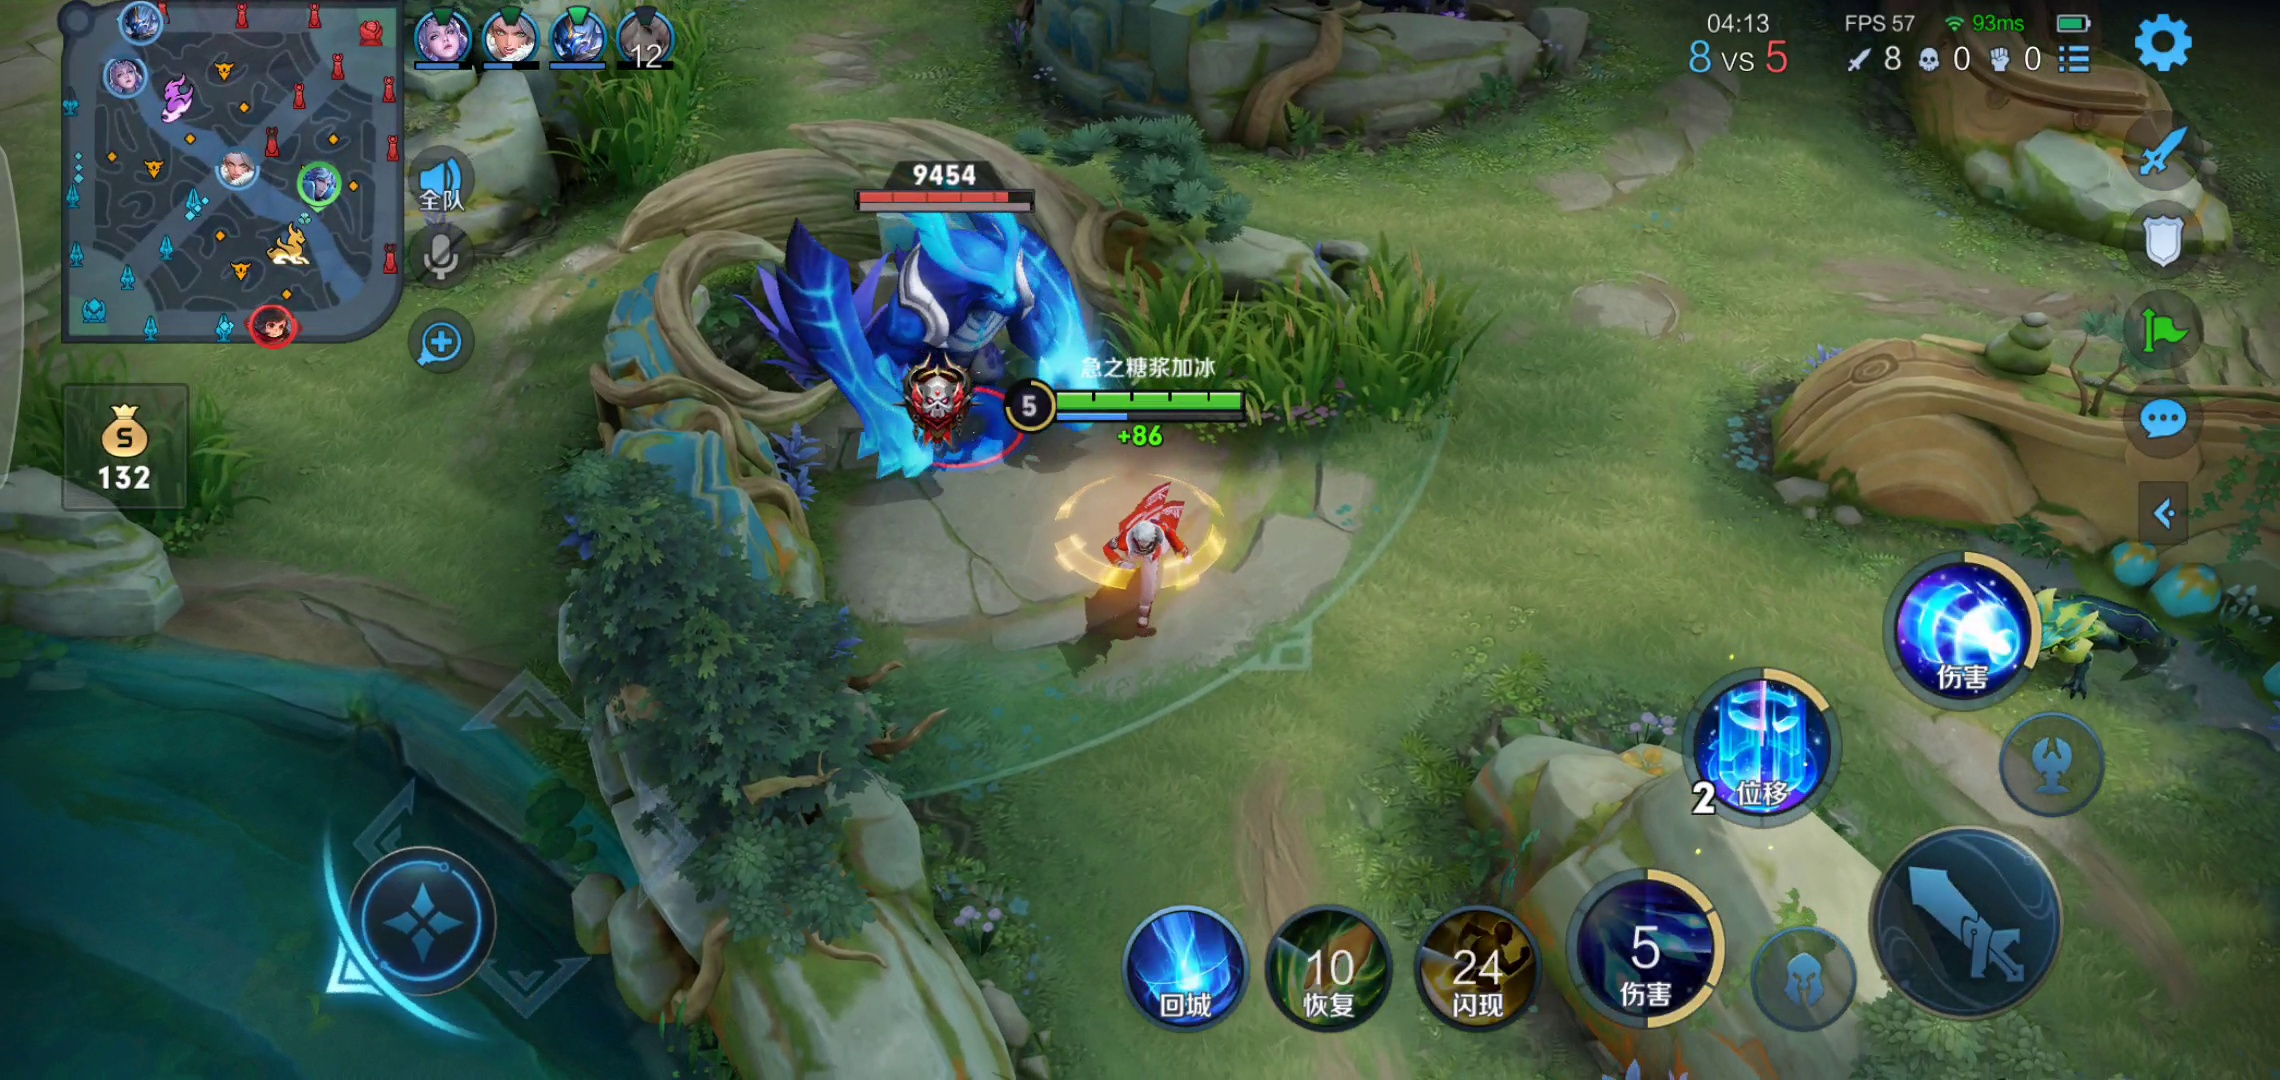buff: (760, 182, 1107, 480)
grass: (1089, 259, 1477, 432), (3, 350, 260, 560), (571, 9, 728, 185)
hero: (1061, 480, 1240, 642)
wild_monster: (1970, 528, 2175, 709)
